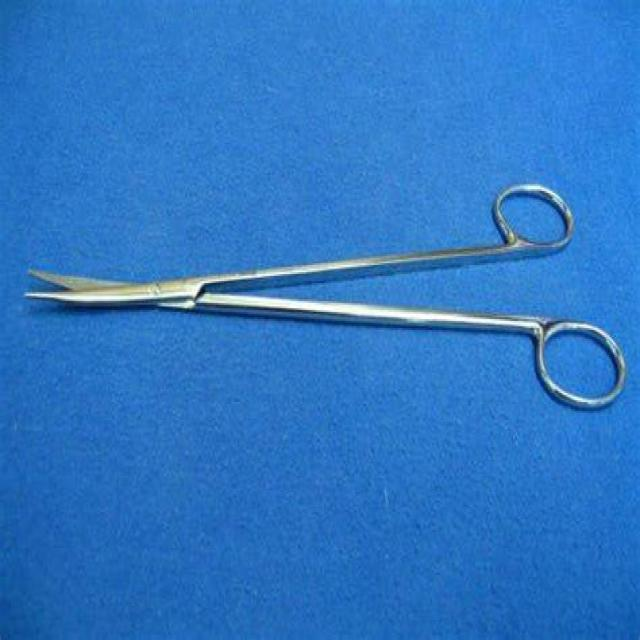Iris: (18, 172, 630, 416)
